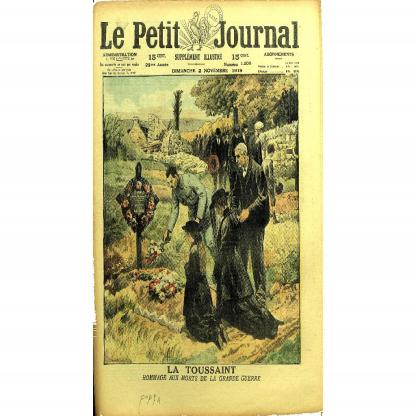book: (93, 0, 324, 416)
